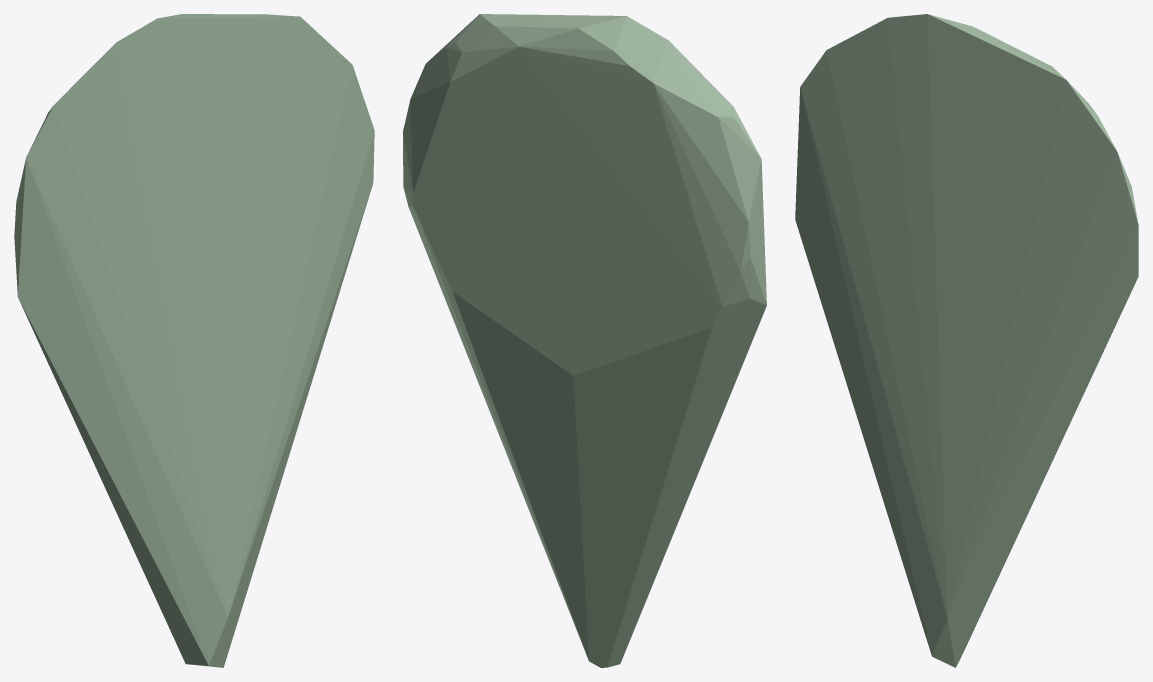
The model's file is kitchenware_pan_q01.glb.
The picture shows the model from 3 angles, left to right: view 1: azimuth 30°, elevation 25°; view 2: azimuth 150°, elevation 25°; view 3: azimuth 330°, elevation 25°; orthographic projection. The views are drawn at different scales.
Visible parts, largest first — view 1: geometry_0; view 2: geometry_0; view 3: geometry_0.
Boxes of the visible parts, x1,y1,x2,y2 form: geometry_0: (14, 14, 374, 667); geometry_0: (403, 14, 766, 667); geometry_0: (795, 14, 1138, 667).
Bounding box in the file's own units: 0.2721 × 0.474 × 0.0555.
